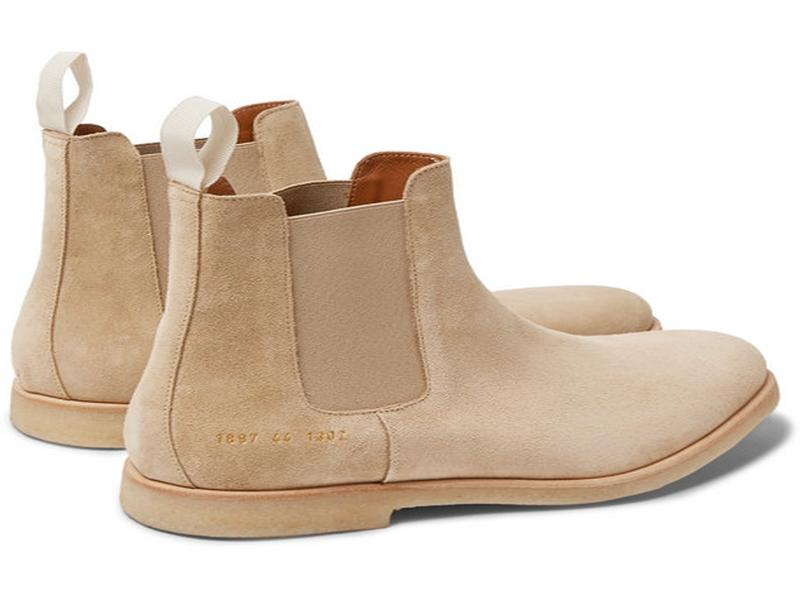shoes_men_chelsea_chelseaboots_suede_none_none_beige_none: (144, 153, 785, 541)
